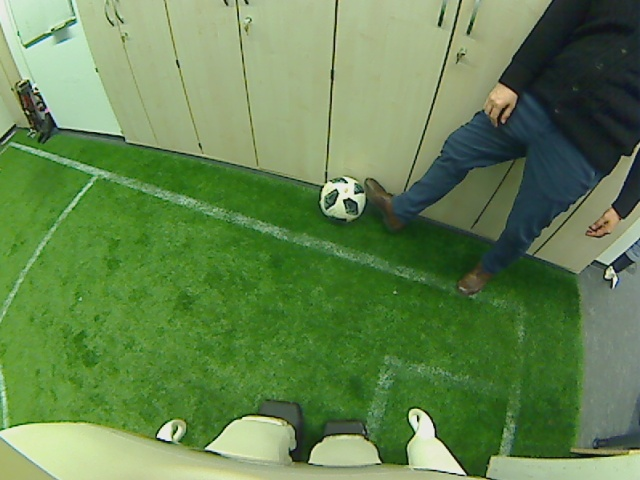ball: (318, 174, 367, 223)
